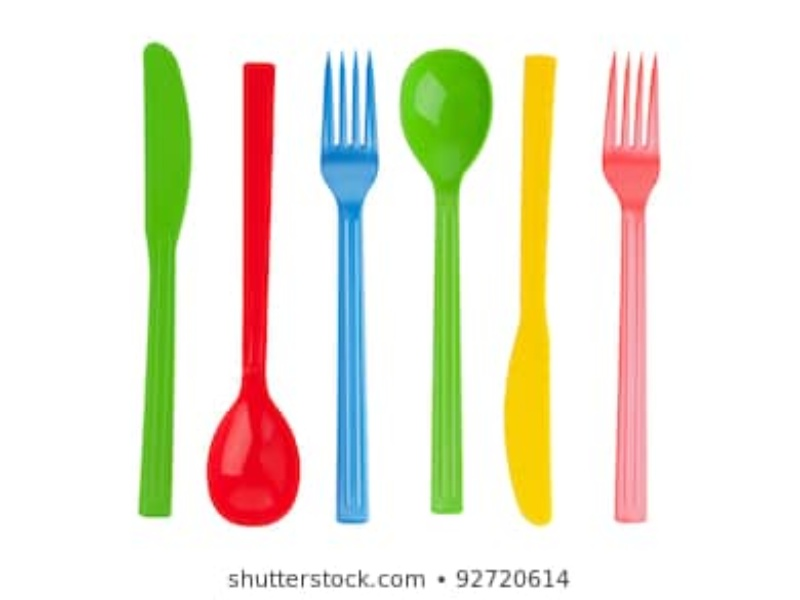plastic-silverware: (205, 55, 308, 531), (397, 47, 495, 517), (599, 46, 664, 526), (317, 49, 382, 528), (135, 42, 194, 519), (502, 52, 561, 525)
